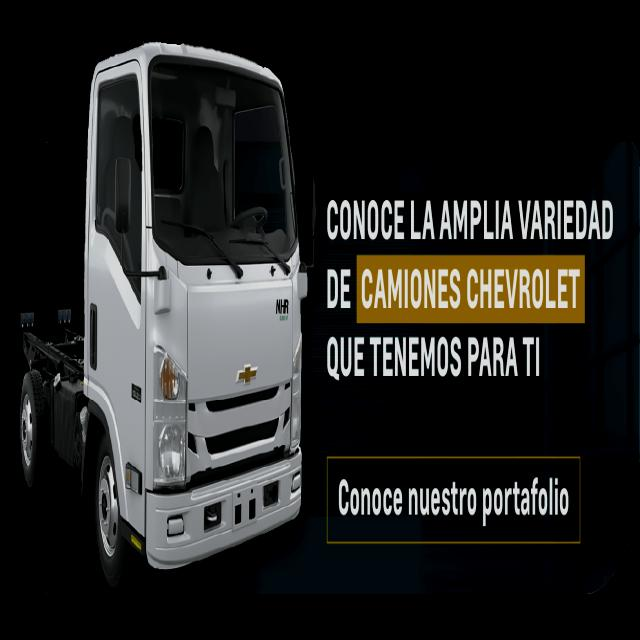TRUCK: (20, 25, 303, 588)
